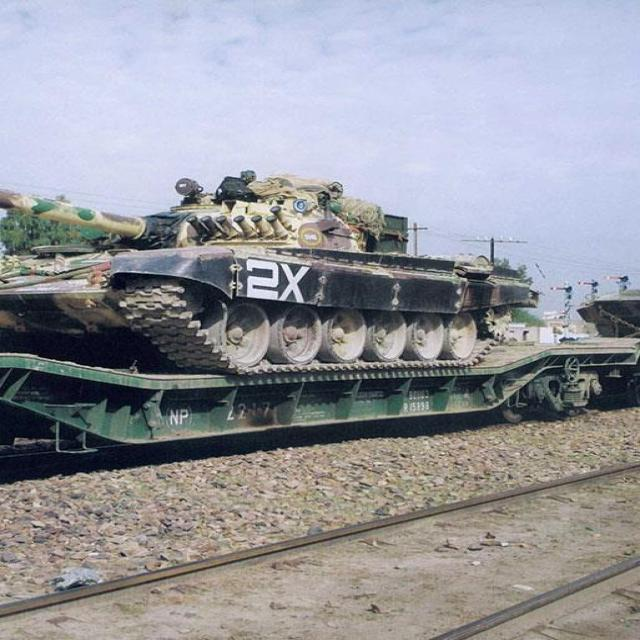Tanks: (19, 168, 535, 346)
